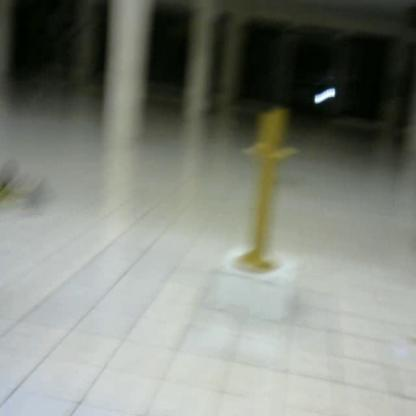pole: (232, 105, 303, 276)
